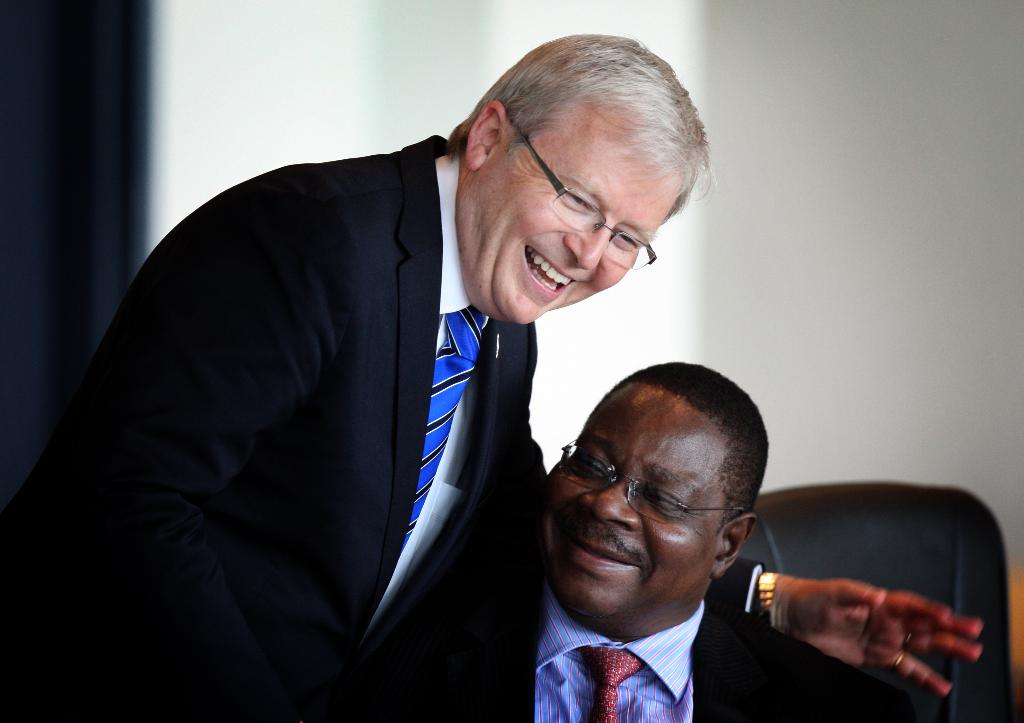Human_hand: (785, 574, 985, 701)
